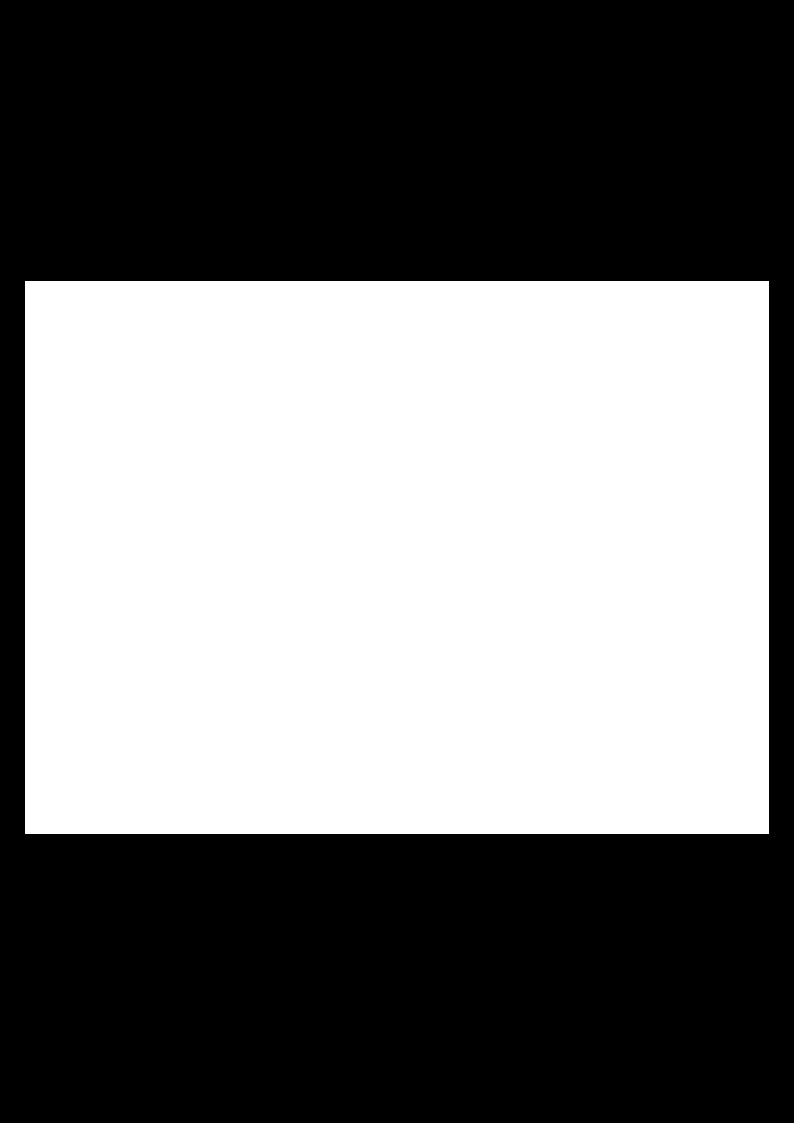table: (25, 281, 768, 833)
